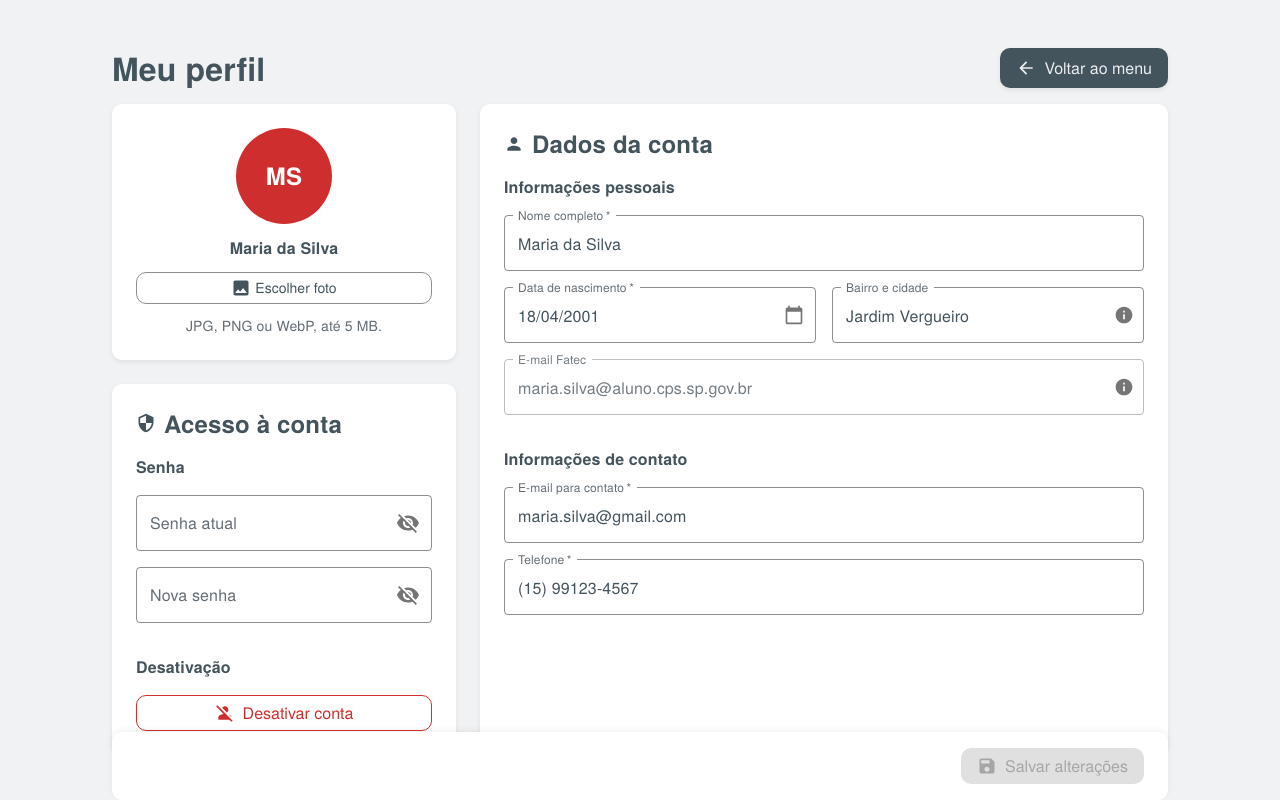
Test: Profile › should keep the save off until something changes, and discard back to what is stored
Expected: the button "Salvar alterações" is disabled, [961,748,1144,784]
Expected: the button "Descartar" is not shown
Type " Rocha" into the field labelled "Nome completo *".
click(824, 243); type(" Rocha")  # box [504,215,1144,271]
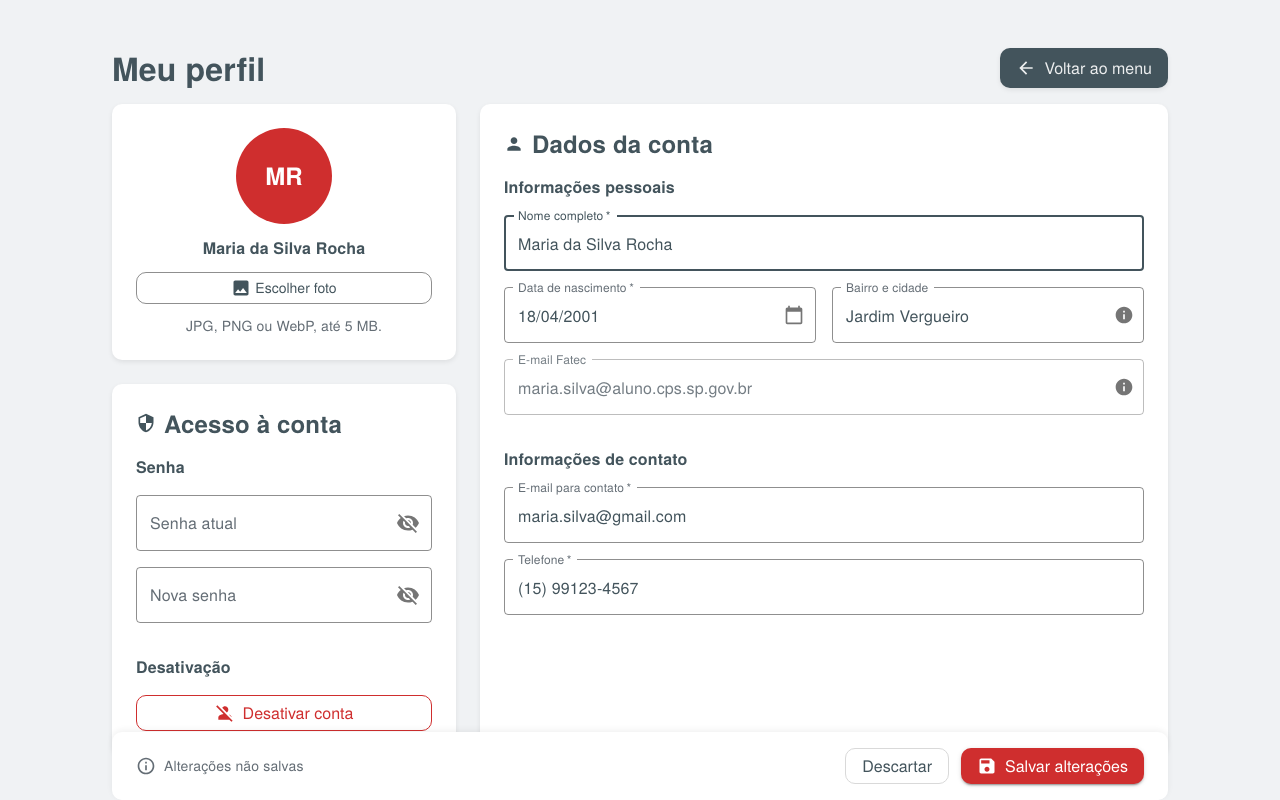
Expected: the button "Salvar alterações" is enabled, [961,748,1144,784]
Expected: the message reads "Alterações não salvas", [164,755,304,775]
Click the button "Descartar".
click(897, 766)  # box [845,748,949,784]
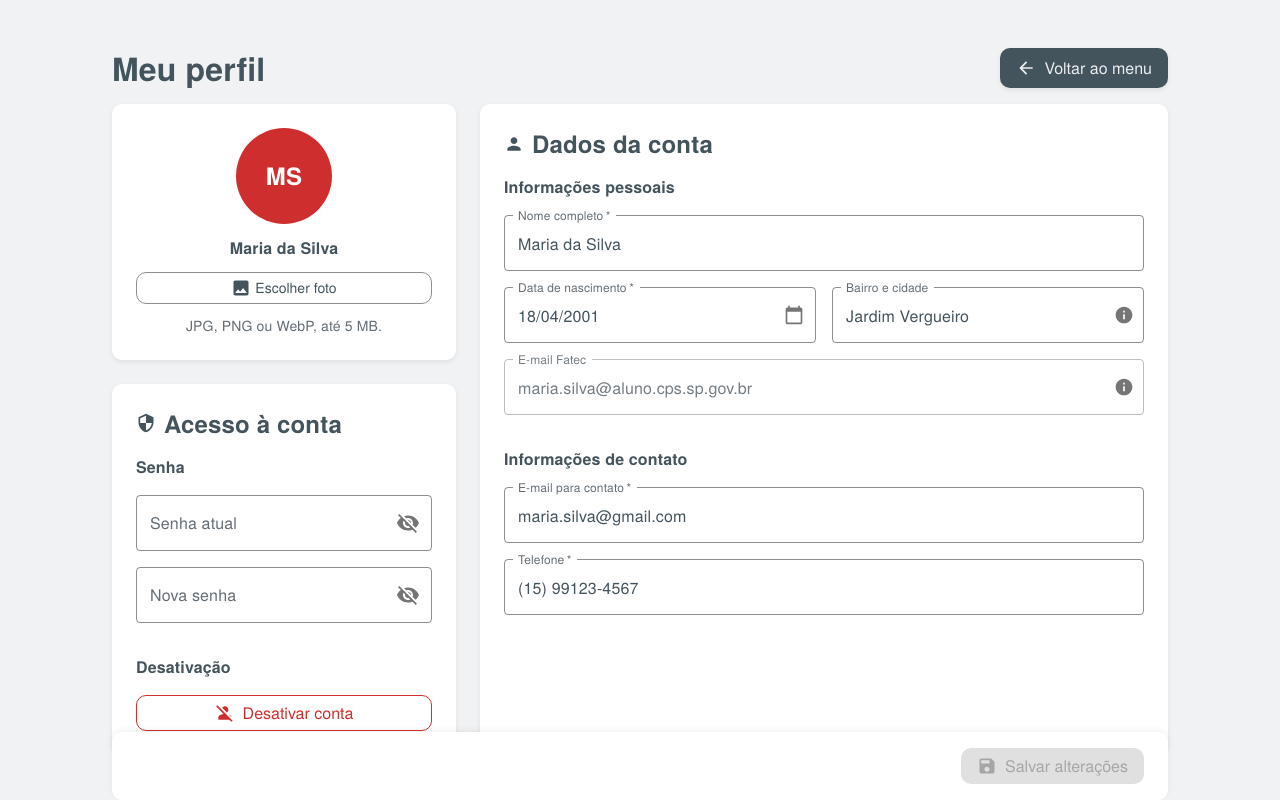
Expected: the field labelled "Nome completo *" holds "Maria da Silva", [504,215,1144,271]
Expected: the button "Salvar alterações" is disabled, [961,748,1144,784]
